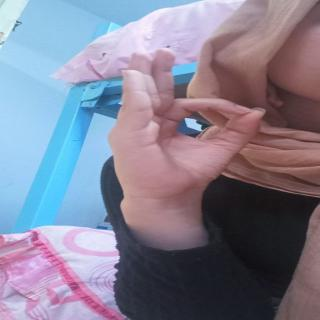Space: (106, 45, 261, 201)
